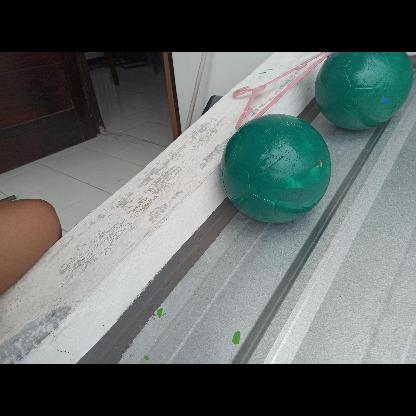green_ball: (220, 110, 334, 223)
